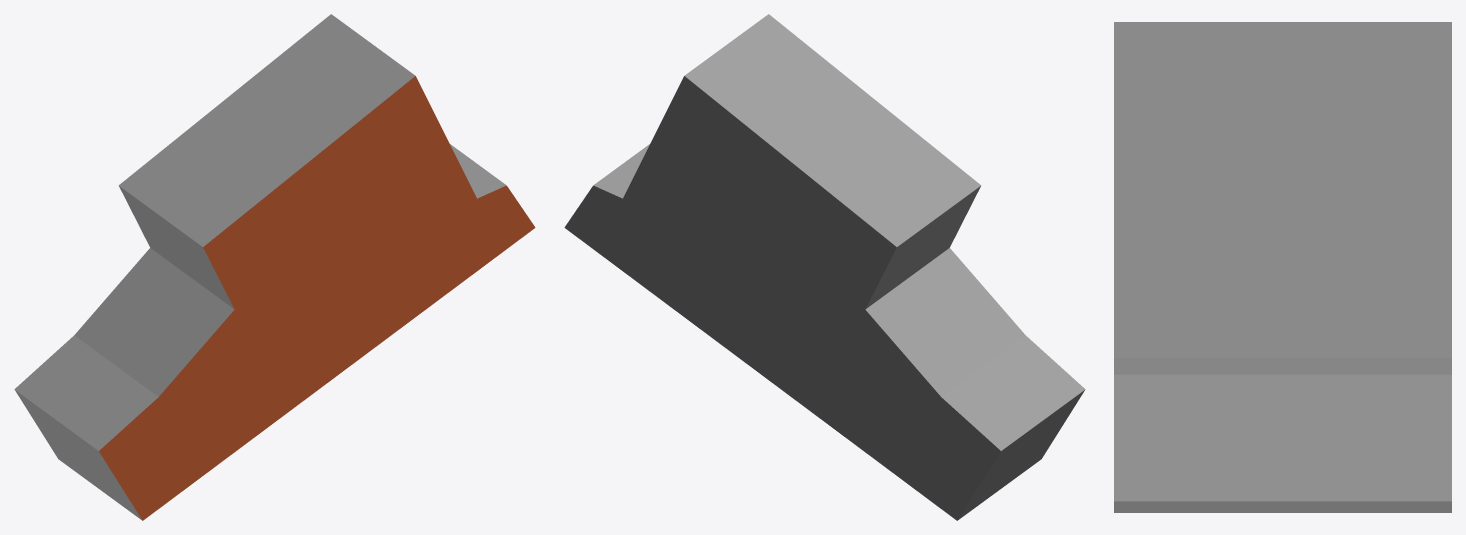
The model's file is construction_3095_assumed_A_Casa_h6m.obj.
3 renders of one model, left to right at view 1: azimuth 30°, elevation 25°; view 2: azimuth 150°, elevation 25°; view 3: azimuth 270°, elevation 25°, orthographic. The views are drawn at different scales.
Parts seen in each view (by area): view 1: construction_3095_assumed_A_Casa; view 2: construction_3095_assumed_A_Casa; view 3: construction_3095_assumed_A_Casa.
Boxes of the visible parts, x1,y1,x2,y2 form: construction_3095_assumed_A_Casa: (14,14,535,520); construction_3095_assumed_A_Casa: (564,14,1085,520); construction_3095_assumed_A_Casa: (1114,22,1451,512).
Bounding box in the file's own units: 17.92 × 14.84 × 6.
